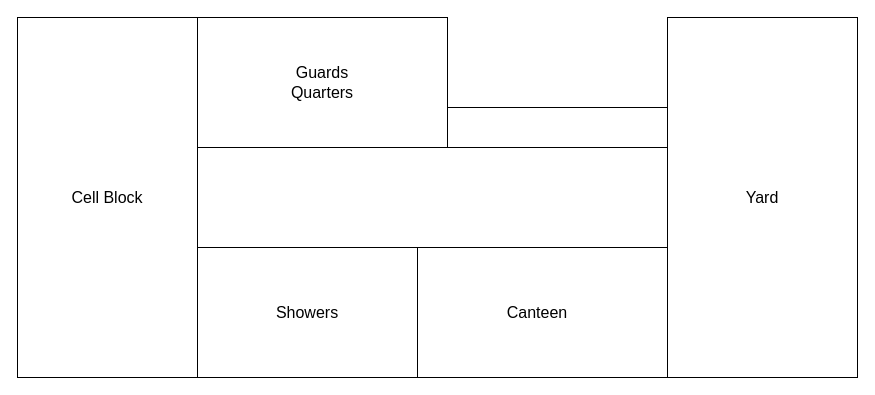
This 875x395 diagram has some shape labels left out. The shapes that lost their labels are listed below. From the top down, each one's centre as x and y in pixels, then its label:
At point 557,127: "Stairs".
At point 432,197: "Hallway".
